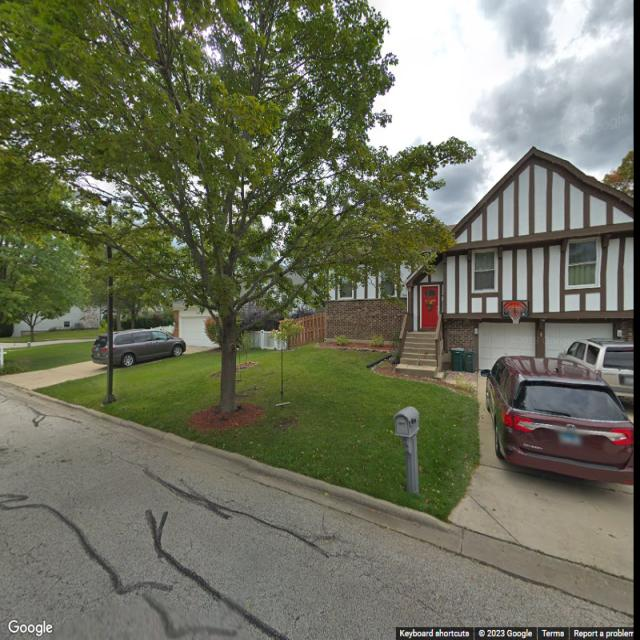House: (325, 143, 634, 377)
